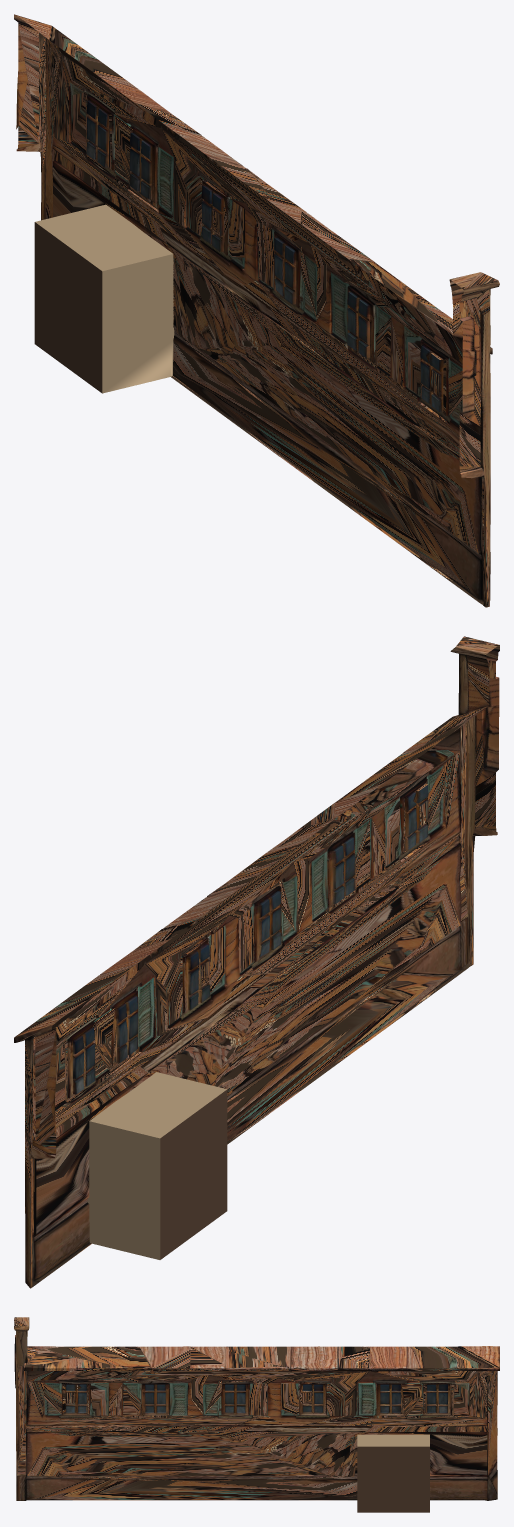
Rendered from saloon_facade_e.glb.
3 renders of one model, top to bottom at view 1: azimuth 30°, elevation 25°; view 2: azimuth 150°, elevation 25°; view 3: azimuth 270°, elevation 25°, orthographic. The views are drawn at different scales.
Visible parts, largest first — view 1: wl_saloon_long; view 2: wl_saloon_long; view 3: wl_saloon_long.
Boxes of the visible parts, x1=… form: wl_saloon_long: x1=14, y1=14, x2=499, y2=607; wl_saloon_long: x1=14, y1=636, x2=499, y2=1288; wl_saloon_long: x1=14, y1=1317, x2=499, y2=1512.
Size of the model in its own units: 2.4 by 6.4 by 16.
2 materials, 1 textured.
